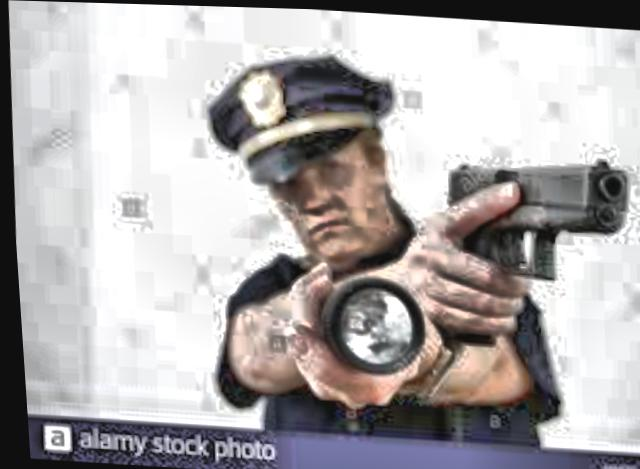pistol: (434, 144, 639, 354)
